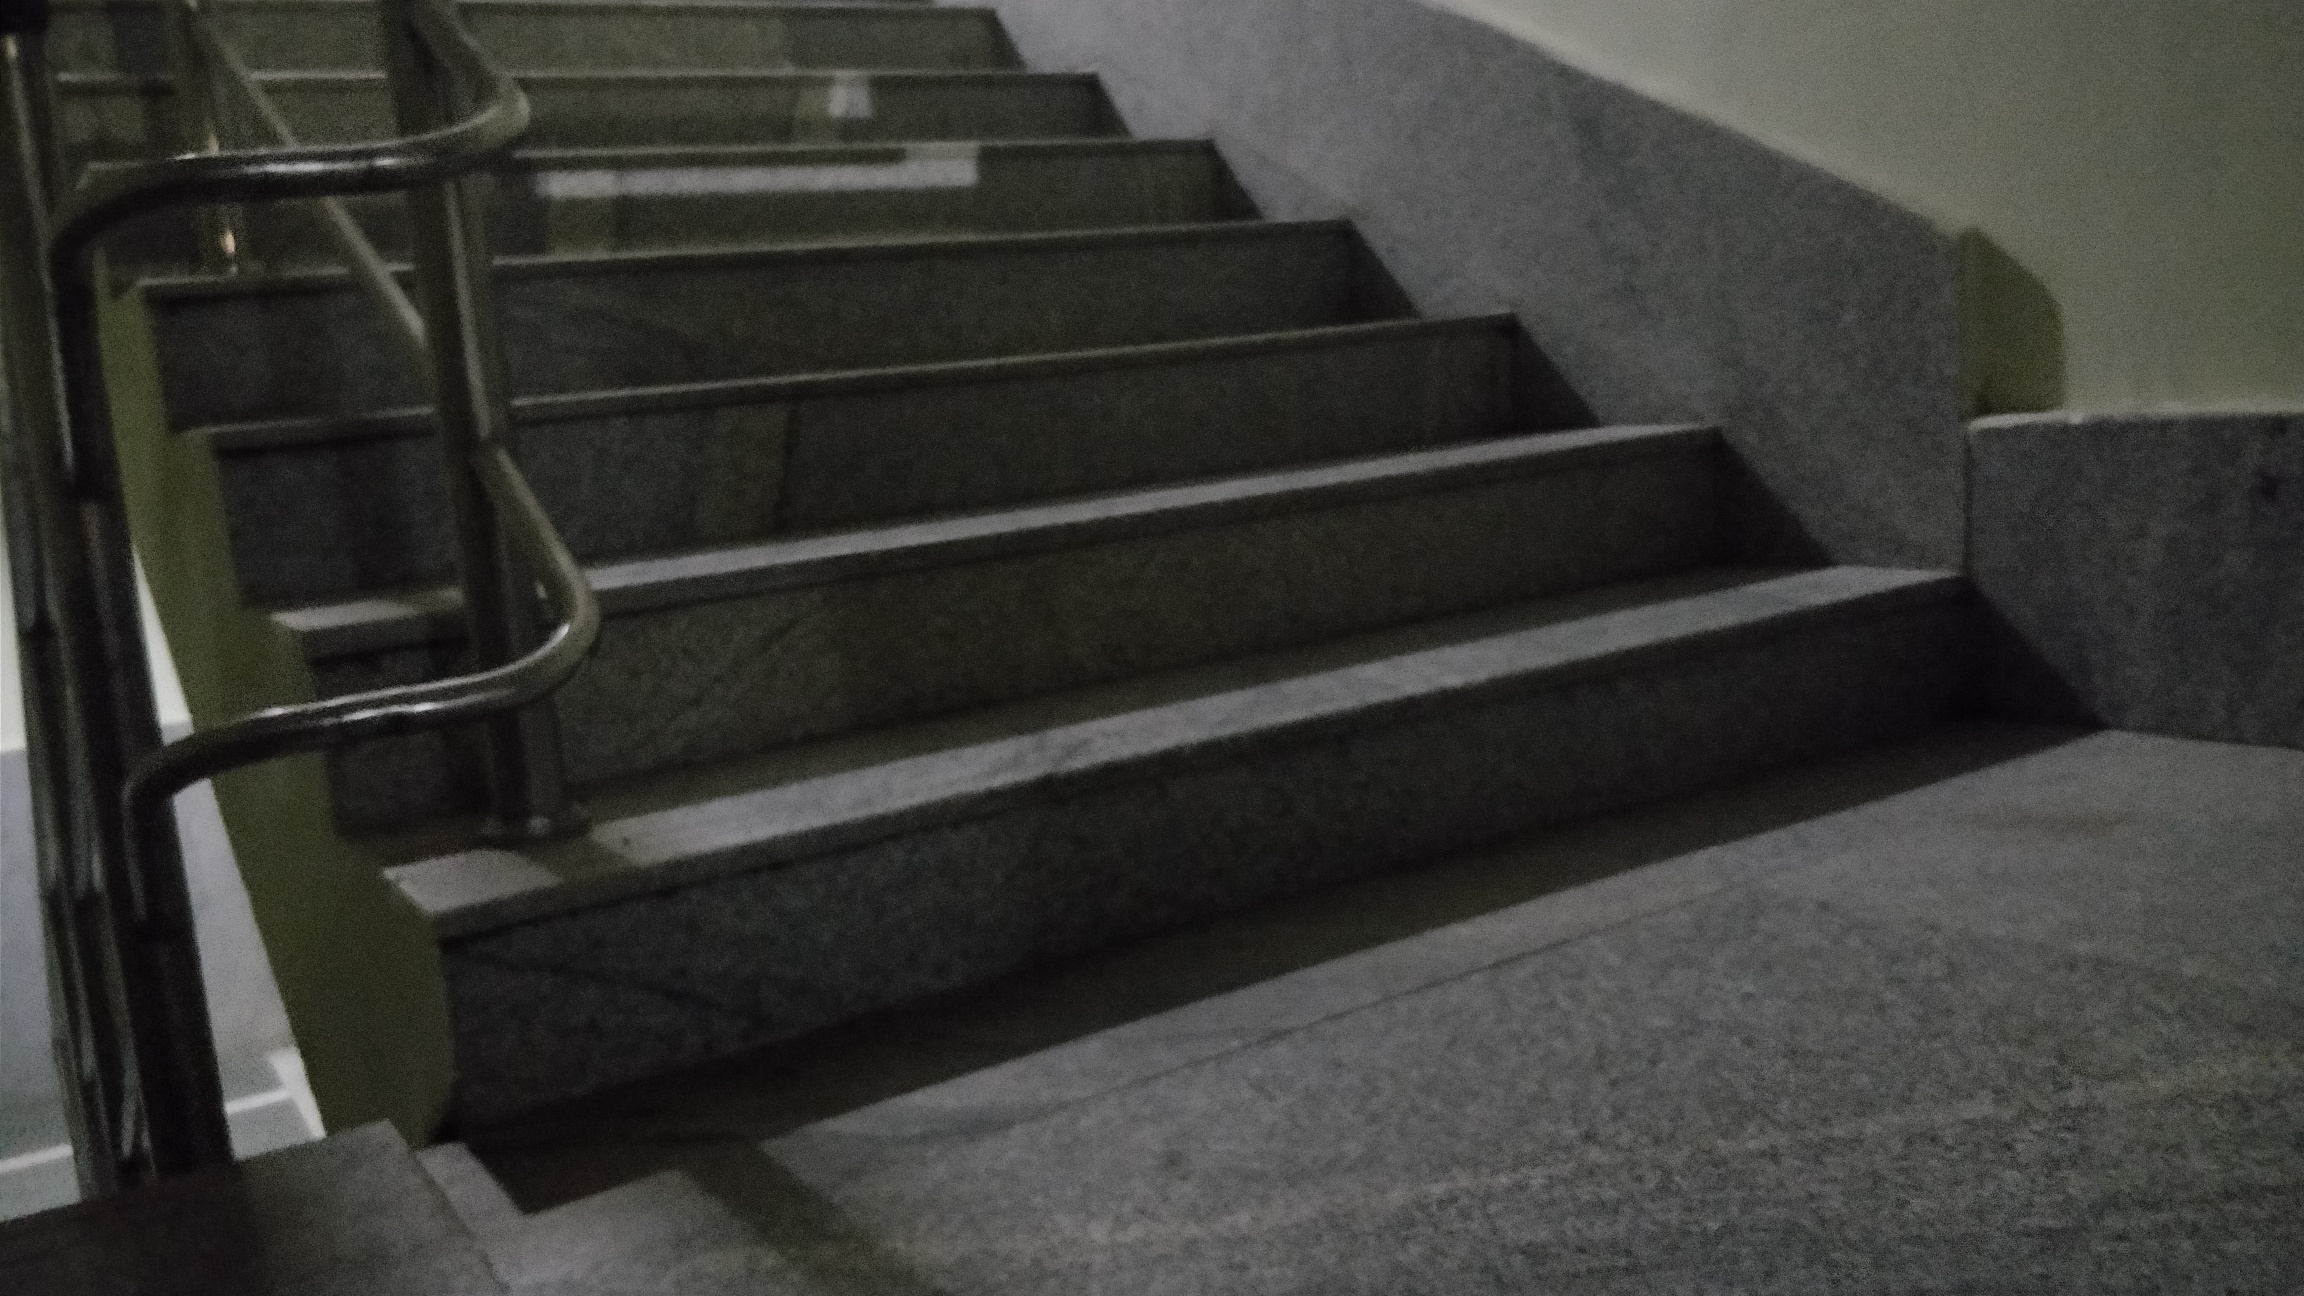stairs_up: (123, 11, 1897, 953)
